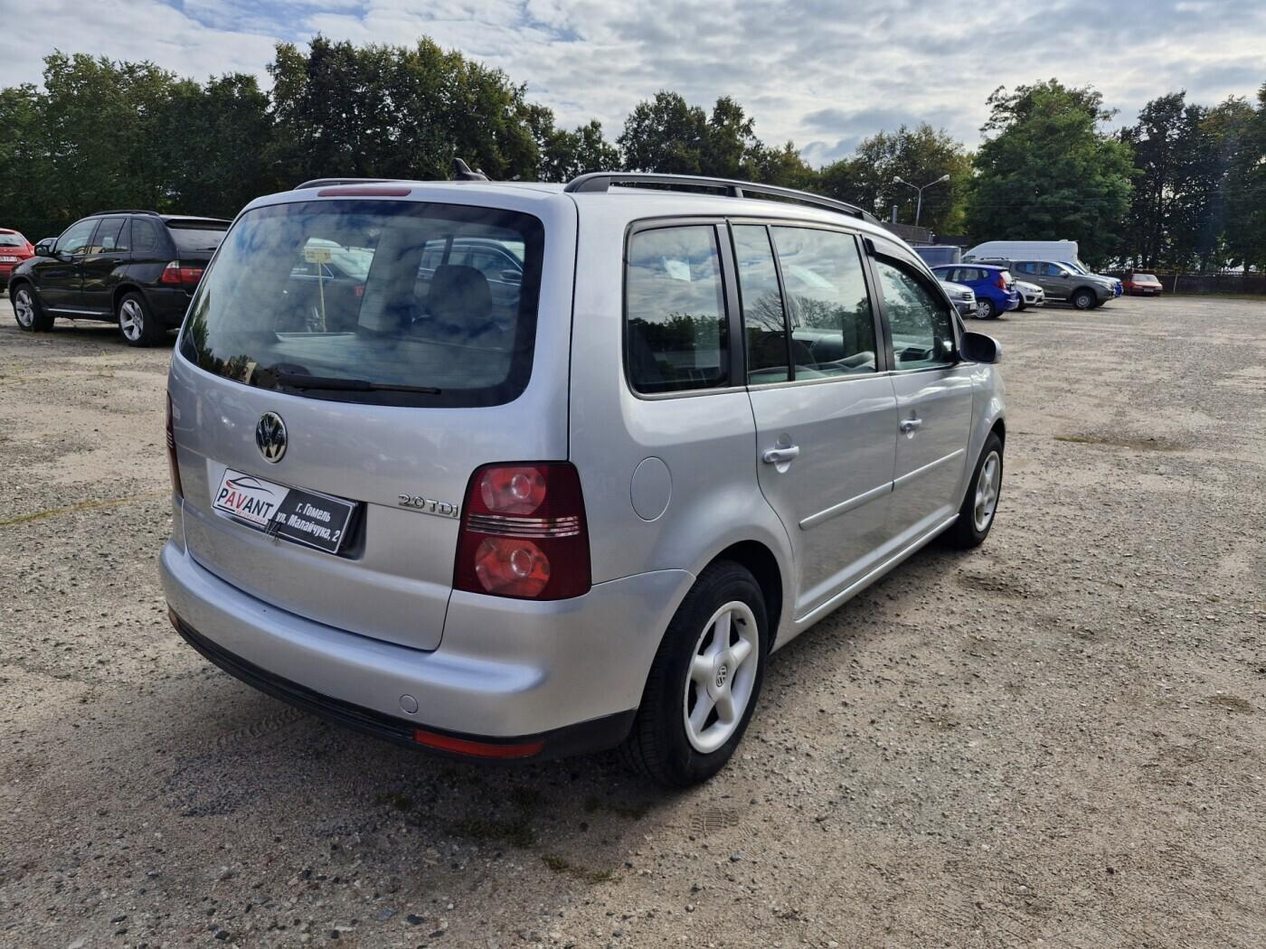Touran_2006-2010: (152, 173, 1010, 779)
